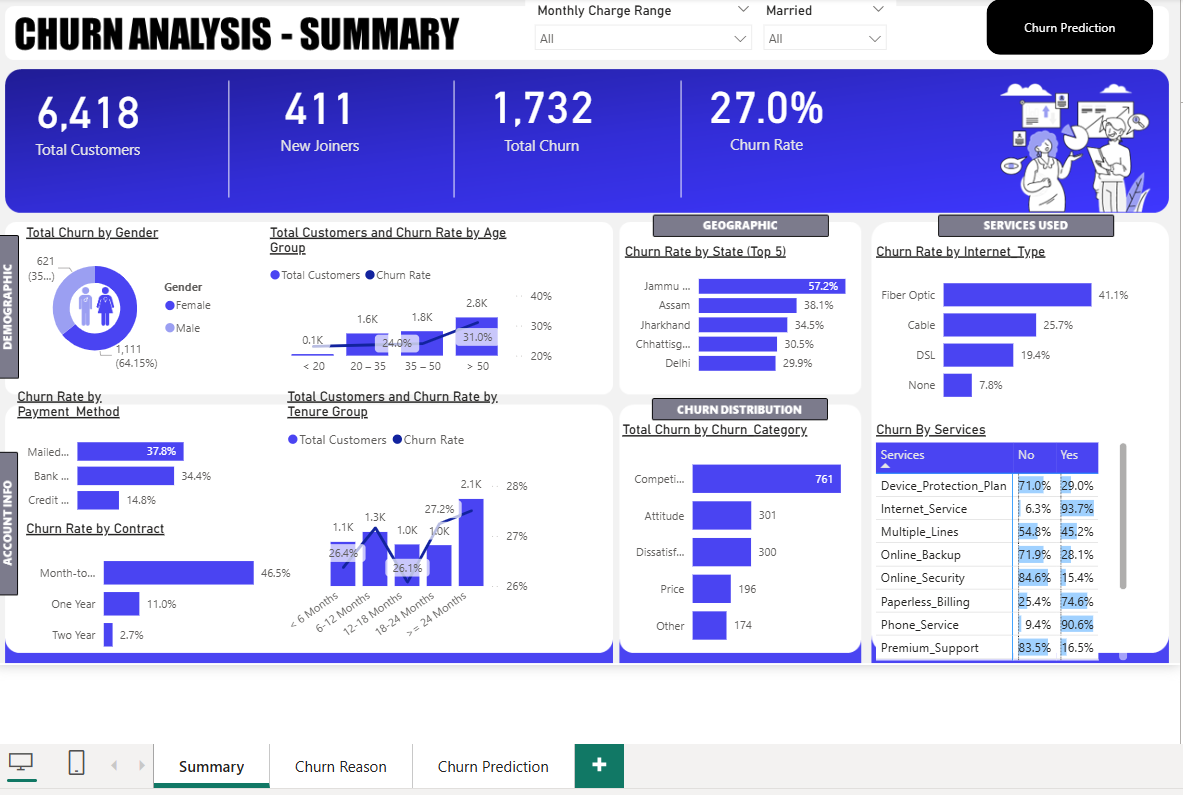

The page's visual inventory and layout, read from the dashboard file:
{"tool":"powerbi","page":{"name":"Summary","canvas":[1280,720],"ordinal":0},"visuals":[{"type":"image","box":[65.3,305.3,92,54.7],"z":0},{"type":"card","fields":{"Values":["tbl_Measures.Total Customers"]},"box":[25.3,80,152,97.3],"z":1000},{"type":"card","fields":{"Values":["tbl_Measures.New Joiners"]},"box":[229.3,72,245.3,105.3],"z":2000},{"type":"card","fields":{"Values":["tbl_Measures.Total Churn"]},"box":[512,74.7,157.3,98.7],"z":3000},{"type":"card","fields":{"Values":["tbl_Measures.Churn Rate"]},"box":[752,74.7,165.3,97.3],"z":4000},{"type":"donutChart","fields":{"Category":["prod_Churn.Gender"],"Y":["tbl_Measures.Total Churn"]},"box":[29.3,244,220,164],"z":5000},{"type":"lineStackedColumnComboChart","fields":{"Category":["mapping_AgeGrp.Age Group"],"Y":["tbl_Measures.Total Customers"],"Y2":["tbl_Measures.Churn Rate"]},"box":[293.3,244,314.7,172],"z":6000},{"type":"clusteredBarChart","fields":{"Category":["prod_Churn.Payment_Method"],"Y":["tbl_Measures.Churn Rate"]},"box":[20,421.3,229.3,148],"z":7000},{"type":"clusteredBarChart","fields":{"Category":["prod_Churn.Contract"],"Y":["tbl_Measures.Churn Rate"]},"box":[29.3,564,302.7,156],"z":8000},{"type":"lineStackedColumnComboChart","fields":{"Category":["mapping_TenureGrp.Tenure Group"],"Y":["tbl_Measures.Total Customers"],"Y2":["tbl_Measures.Churn Rate"]},"box":[312,421.3,278.7,286.7],"z":9000},{"type":"clusteredBarChart","title":"Churn Rate by State (Top 5)","fields":{"Category":["prod_Churn.State"],"Y":["tbl_Measures.Churn Rate"]},"box":[676,264,288,152],"z":10000},{"type":"clusteredBarChart","fields":{"Category":["prod_Churn.Churn_Category"],"Y":["tbl_Measures.Total Churn"]},"box":[673.3,457.3,273.3,257.3],"z":11000},{"type":"clusteredBarChart","fields":{"Category":["prod_Churn.Internet_Type"],"Y":["tbl_Measures.Churn Rate"]},"box":[946.7,264,316,185.3],"z":12000},{"type":"pivotTable","title":"Churn By Services","fields":{"Rows":["prod_Services.Services"],"Columns":["prod_Services.Status"],"Values":["Sum(prod_Services.Churn Status)"]},"box":[946.7,457.3,281.3,262.7],"z":13000},{"type":"slicer","fields":{"Values":["prod_Churn.Monthly Charge Status"]},"box":[573.3,0,254.7,60],"z":14000},{"type":"slicer","fields":{"Values":["prod_Churn.Married"]},"box":[820,0,153.3,60],"z":15000},{"type":"shape","box":[1070.7,1.3,180,60],"z":15001}]}

Visuals, with their boxes on the page's 1280x720 design canvas (x1, y1, x2, y2). These are canvas units, not pixel positions in the 1183x795 screenshot, which may show the page scaled, cropped or inside an application window:
image: crop(65, 305, 157, 360)
card - tbl_Measures.Total Customers: crop(25, 80, 177, 177)
card - tbl_Measures.New Joiners: crop(229, 72, 475, 177)
card - tbl_Measures.Total Churn: crop(512, 75, 669, 173)
card - tbl_Measures.Churn Rate: crop(752, 75, 917, 172)
donutChart - prod_Churn.Gender x tbl_Measures.Total Churn: crop(29, 244, 249, 408)
lineStackedColumnComboChart - mapping_AgeGrp.Age Group x tbl_Measures.Total Customers: crop(293, 244, 608, 416)
clusteredBarChart - prod_Churn.Payment_Method x tbl_Measures.Churn Rate: crop(20, 421, 249, 569)
clusteredBarChart - prod_Churn.Contract x tbl_Measures.Churn Rate: crop(29, 564, 332, 720)
lineStackedColumnComboChart - mapping_TenureGrp.Tenure Group x tbl_Measures.Total Customers: crop(312, 421, 591, 708)
"Churn Rate by State (Top 5)" clusteredBarChart: crop(676, 264, 964, 416)
clusteredBarChart - prod_Churn.Churn_Category x tbl_Measures.Total Churn: crop(673, 457, 947, 715)
clusteredBarChart - prod_Churn.Internet_Type x tbl_Measures.Churn Rate: crop(947, 264, 1263, 449)
"Churn By Services" pivotTable: crop(947, 457, 1228, 720)
slicer - prod_Churn.Monthly Charge Status: crop(573, 0, 828, 60)
slicer - prod_Churn.Married: crop(820, 0, 973, 60)
shape: crop(1071, 1, 1251, 61)
